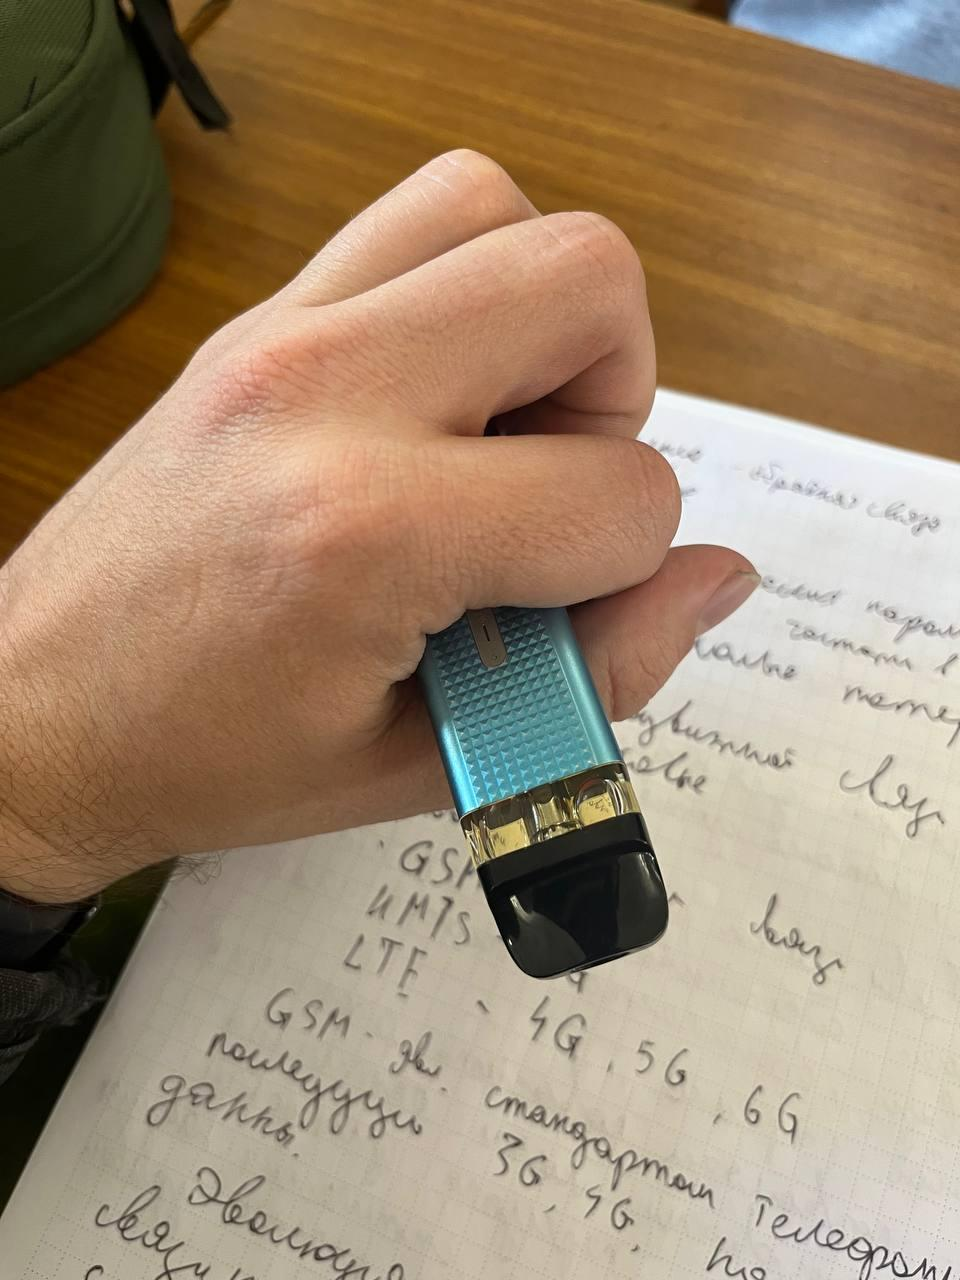Vape: (417, 607, 667, 977)
